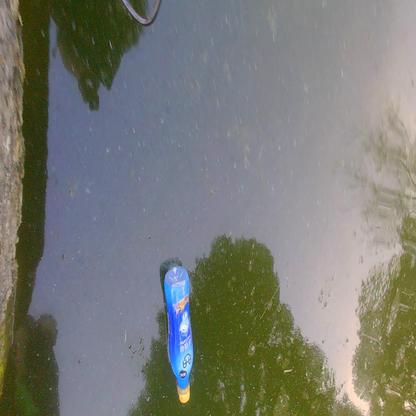plastic bottle: (163, 266, 194, 403)
